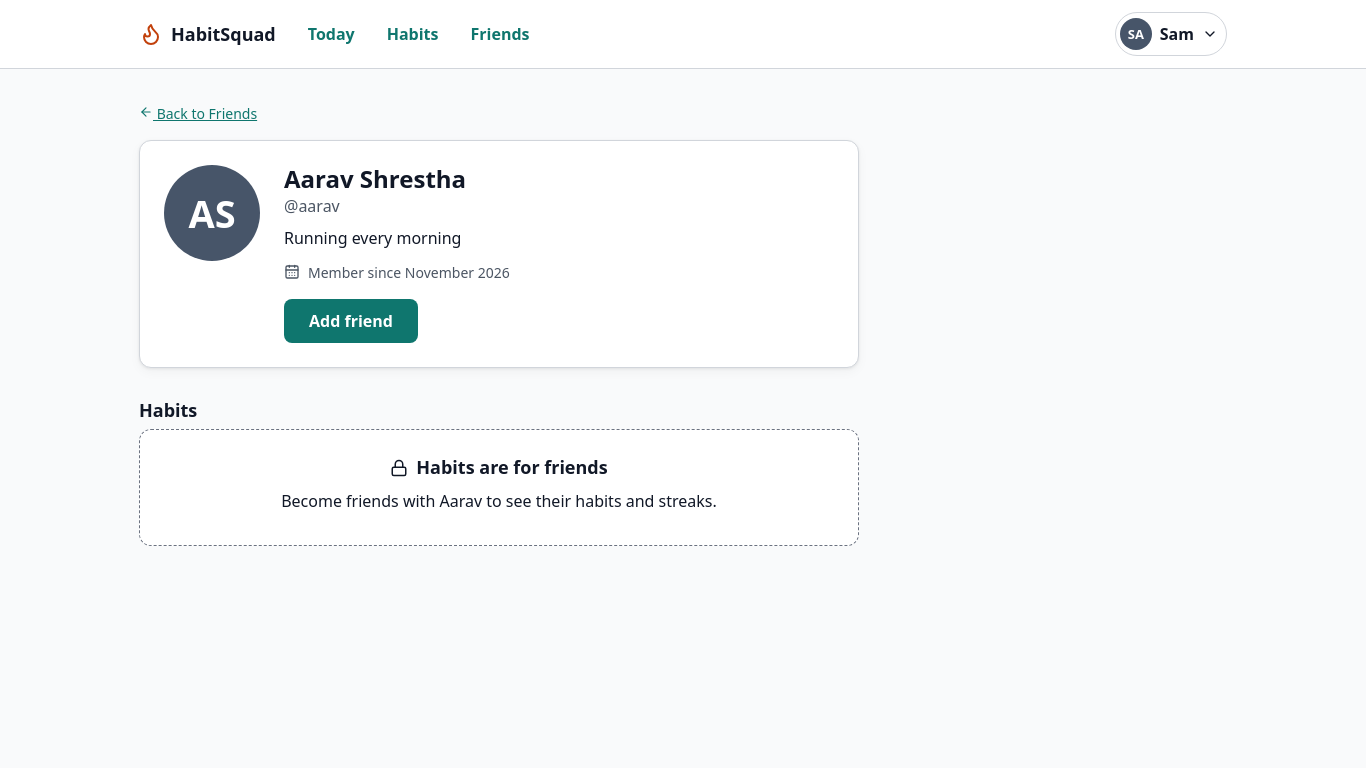
Test: PersonProfilePage › "Add friend" sends a request and the button becomes "Requested"
expect the heading "Aarav Shrestha" is shown: met, box [284,162,466,195]
Click the button "Add friend" at (351, 321), box [284,299,418,343]
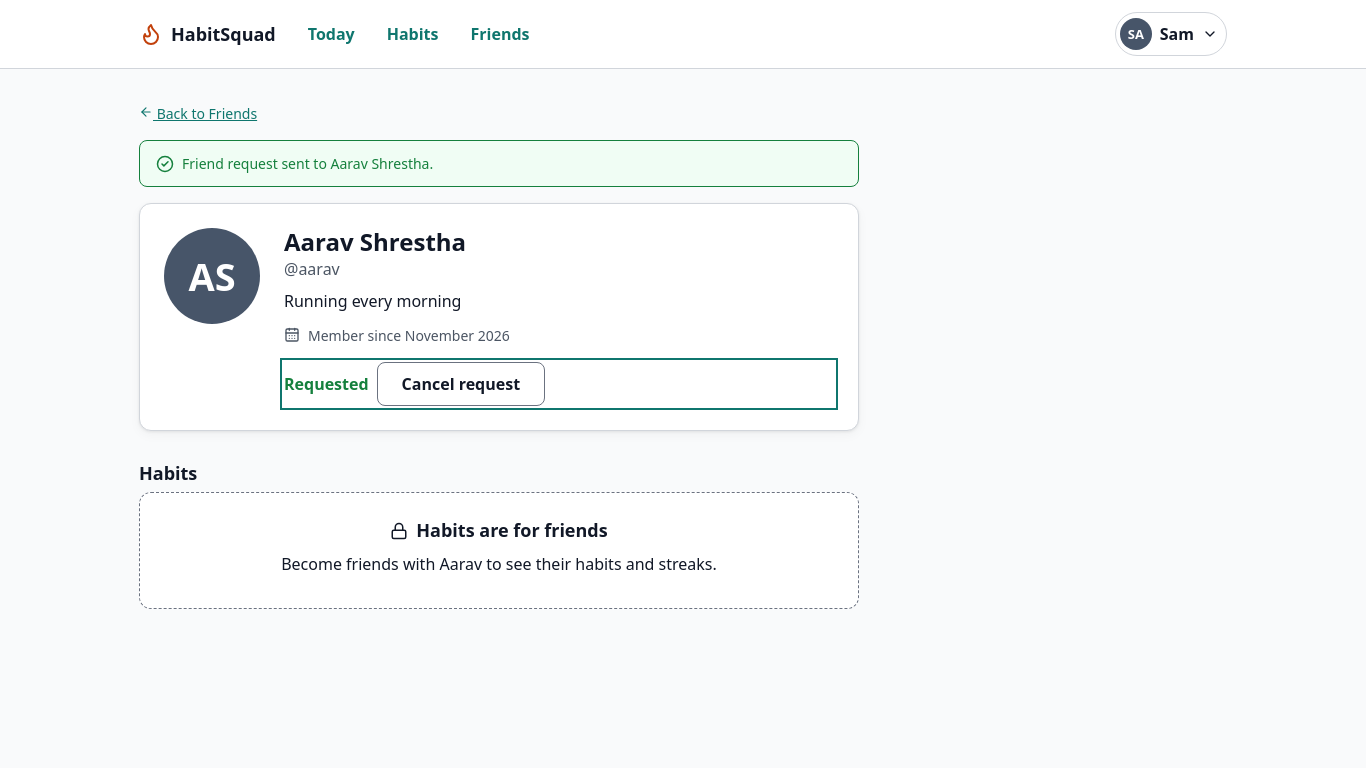
expect the text "Friend request sent to Aarav Shrestha." is shown: met, box [182,153,433,174]
expect the text "Requested" is shown: met, box [284,372,369,396]
expect the button "Cancel request" is shown: met, box [377,362,545,406]
